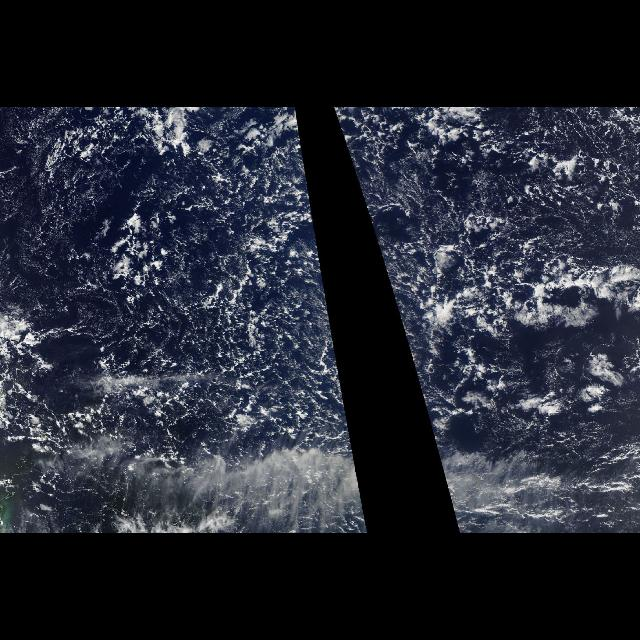Gravel: (8, 128, 348, 458), (338, 127, 640, 417)
